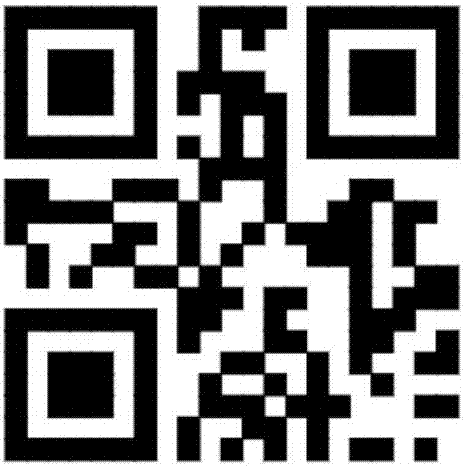QRCode: (2, 2, 464, 466)
